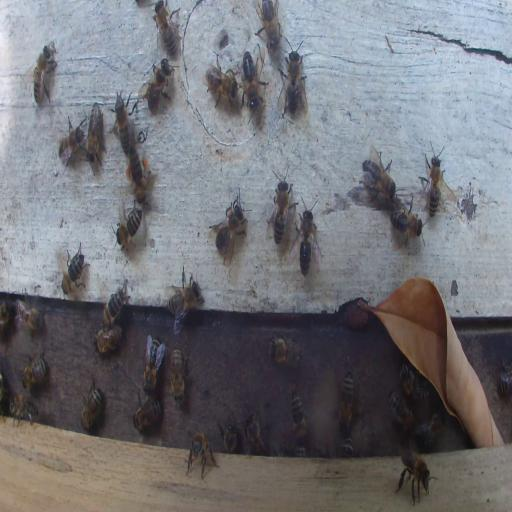bee: (210, 198, 250, 266), (277, 35, 308, 122), (166, 264, 204, 334), (418, 142, 446, 219), (396, 450, 434, 504), (270, 162, 294, 247), (295, 195, 321, 273), (390, 194, 424, 250), (203, 55, 238, 108), (362, 149, 396, 203), (139, 57, 173, 111), (185, 428, 219, 479), (32, 42, 58, 107), (126, 145, 151, 205), (241, 48, 265, 109), (60, 244, 88, 296), (58, 115, 86, 167), (268, 330, 302, 370), (114, 204, 144, 249), (142, 335, 166, 391), (80, 375, 103, 432), (153, 2, 178, 54), (101, 282, 129, 328), (112, 90, 132, 154), (85, 101, 103, 169), (15, 292, 44, 333), (388, 390, 416, 432), (254, 0, 280, 45), (244, 408, 267, 455), (21, 350, 48, 390), (416, 411, 444, 449), (132, 396, 161, 432), (338, 370, 354, 432), (9, 392, 38, 426), (289, 391, 308, 440), (170, 347, 185, 403), (94, 324, 122, 354), (400, 364, 424, 396), (218, 421, 238, 454), (500, 360, 512, 396), (0, 300, 11, 334), (280, 443, 306, 456), (342, 438, 354, 457)
